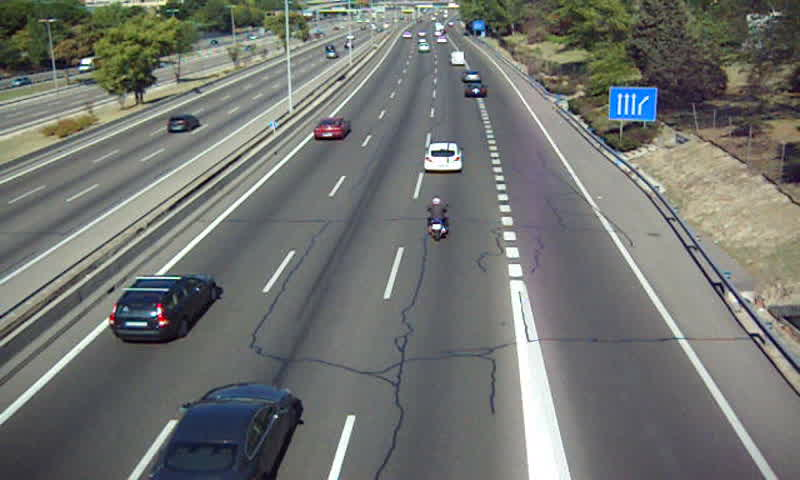car: (151, 382, 302, 480), (111, 276, 218, 340), (424, 143, 462, 173), (313, 117, 349, 141), (464, 83, 488, 97), (461, 69, 482, 84)
motorcycle: (424, 198, 449, 244)
van: (450, 50, 466, 66)
